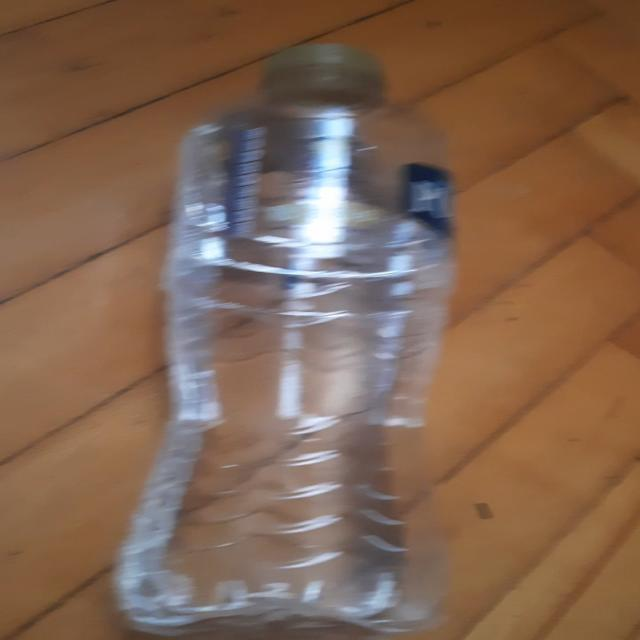Plastic: (112, 42, 456, 640)
